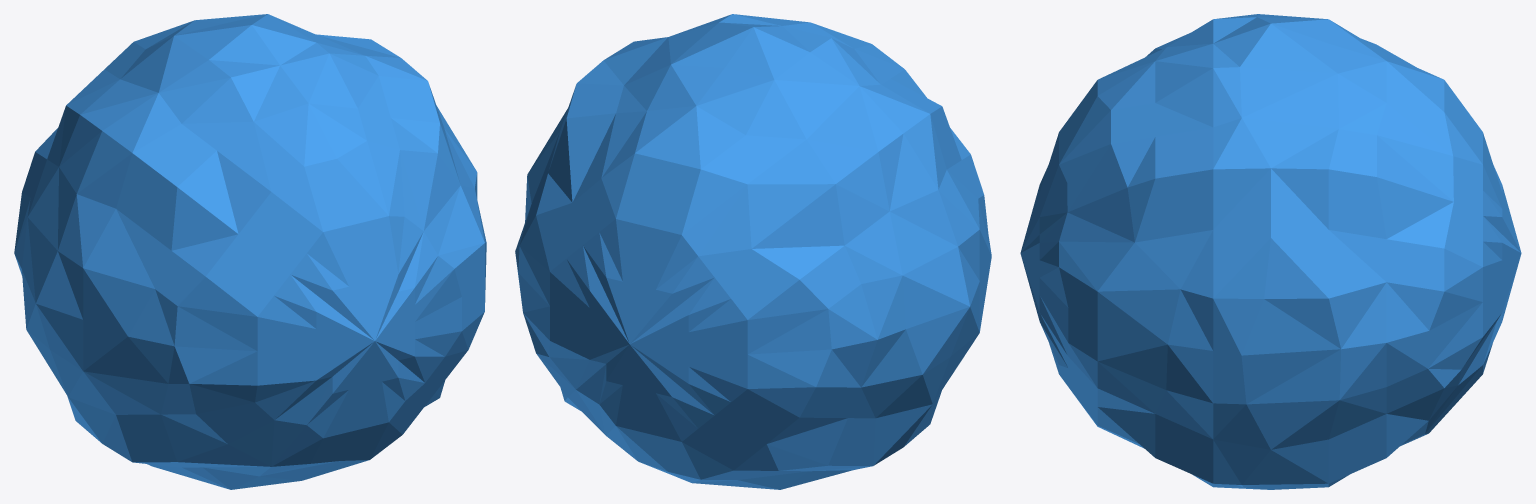
Rendered from crumb.dae.
3 renders of one model, left to right at view 1: azimuth 30°, elevation 25°; view 2: azimuth 150°, elevation 25°; view 3: azimuth 270°, elevation 25°, orthographic.
Visible parts, largest first — view 1: crumbModel; view 2: crumbModel; view 3: crumbModel.
Boxes of the visible parts, x1=… form: crumbModel: x1=14, y1=14, x2=486, y2=489; crumbModel: x1=515, y1=14, x2=991, y2=489; crumbModel: x1=1020, y1=14, x2=1521, y2=489.
Size of the model in its own units: 10.29 by 10.52 by 10.4.
